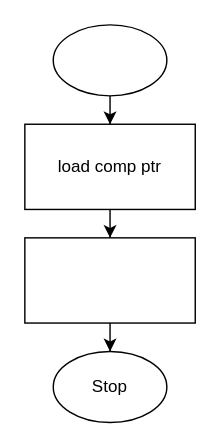
The diagram is 220 pixels wide and 447 high, and some of its shapes have lost their labels. The shapes that lost their labels are listed below. From the top down, each one's centre as x and y in pixels, then its label:
[109,59]: Start
[109,279]: output_completed
